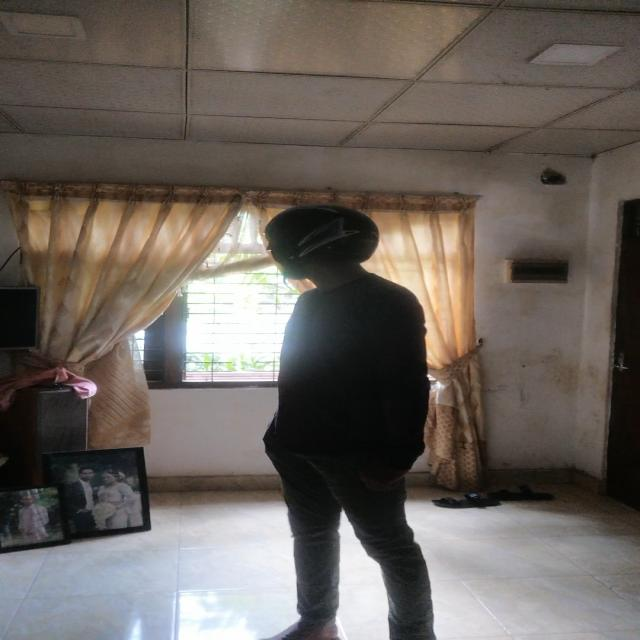Helmet_Wearer: (250, 201, 400, 282)
Person: (244, 202, 446, 640)
